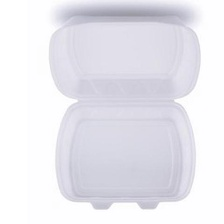foam_box: (43, 10, 210, 216)
